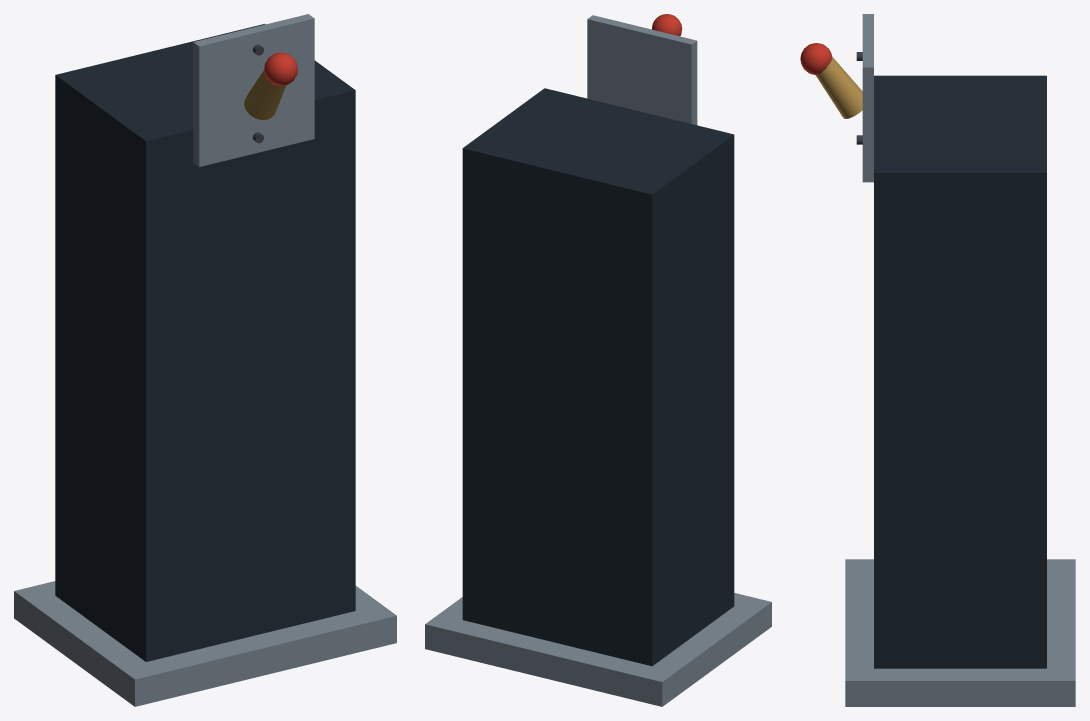
Rendered from wall-switch-lod0.glb.
3 views of the same model, side by side, from view 1: azimuth 30°, elevation 25°; view 2: azimuth 150°, elevation 25°; view 3: azimuth 270°, elevation 25° (orthographic). The views are drawn at different scales.
Parts seen in each view (by area): view 1: console, console-foot, face-plate, toggle-lever, toggle-tip; view 2: console, console-foot, face-plate; view 3: console, console-foot, face-plate, toggle-lever, toggle-tip.
Boxes of the visible parts, box(x1,y1,x2,y2) form: console: box(55, 24, 355, 661); console-foot: box(14, 581, 396, 706); face-plate: box(193, 14, 314, 166); toggle-lever: box(244, 70, 285, 119); toggle-tip: box(264, 52, 297, 86); console: box(462, 88, 734, 666); console-foot: box(425, 593, 771, 706); face-plate: box(587, 15, 697, 125); console: box(874, 75, 1046, 668); console-foot: box(845, 559, 1075, 706); face-plate: box(862, 14, 873, 182); toggle-lever: box(815, 57, 862, 118); toggle-tip: box(800, 43, 832, 74).
Size of the model in its own units: 0.5 by 1.16 by 0.478.
